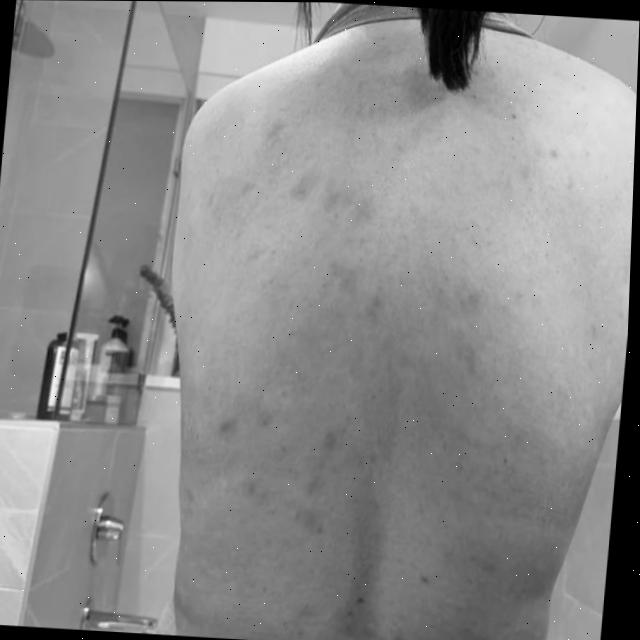Rosacea: (215, 405, 344, 549), (283, 160, 406, 251)
